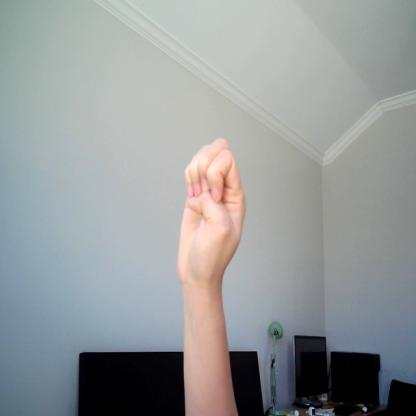E: (176, 136, 248, 291)
